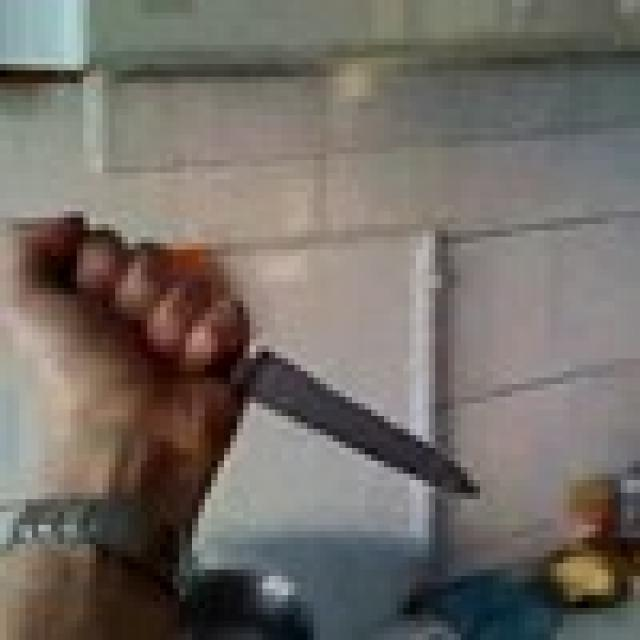Knife: (45, 218, 480, 506)
